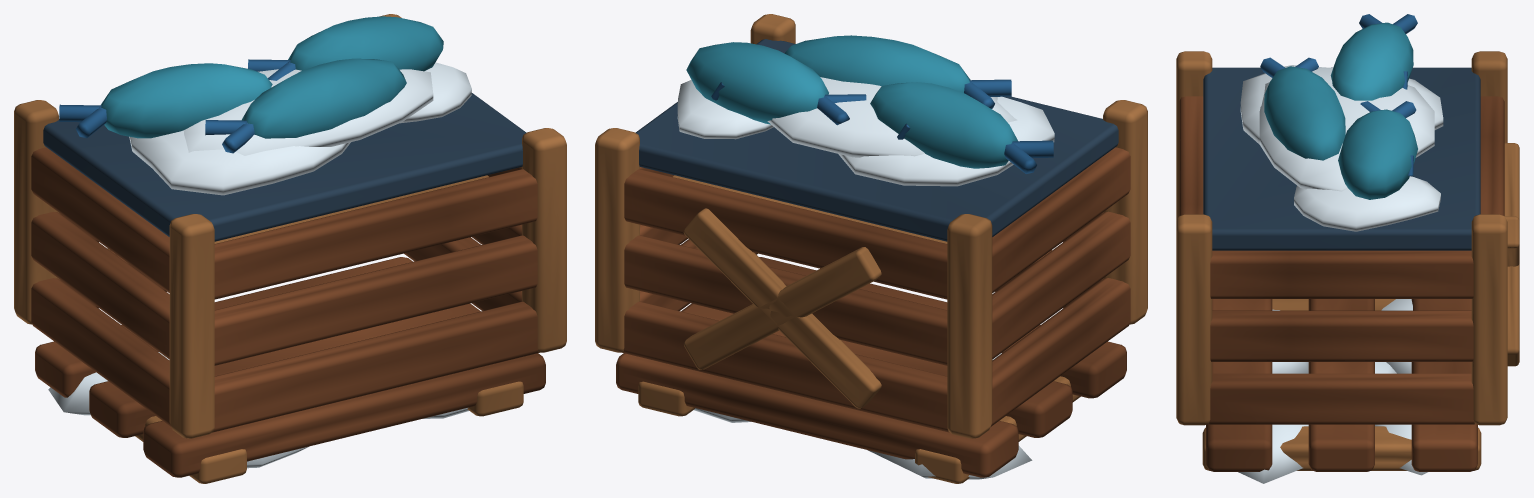
File: fish_crate.glb
3 renders of one model, left to right at view 1: azimuth 30°, elevation 25°; view 2: azimuth 150°, elevation 25°; view 3: azimuth 270°, elevation 25°, orthographic. The views are drawn at different scales.
Parts seen in each view (by area): view 1: fish_crate; view 2: fish_crate; view 3: fish_crate.
Part boxes in pixels (bbox=[...]): fish_crate: bbox=[14, 14, 566, 483]; fish_crate: bbox=[595, 14, 1147, 483]; fish_crate: bbox=[1176, 14, 1519, 483].
Bounding box in the file's own units: 1.44 × 1.2 × 1.14.
